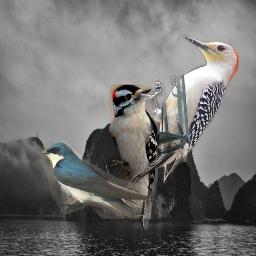Swallow: (42, 141, 151, 219)
Woodpecker: (126, 33, 242, 189), (106, 84, 158, 230)
